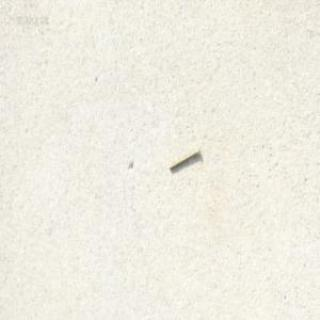Bolttrack_idkeyframe: (168, 145, 199, 170)
